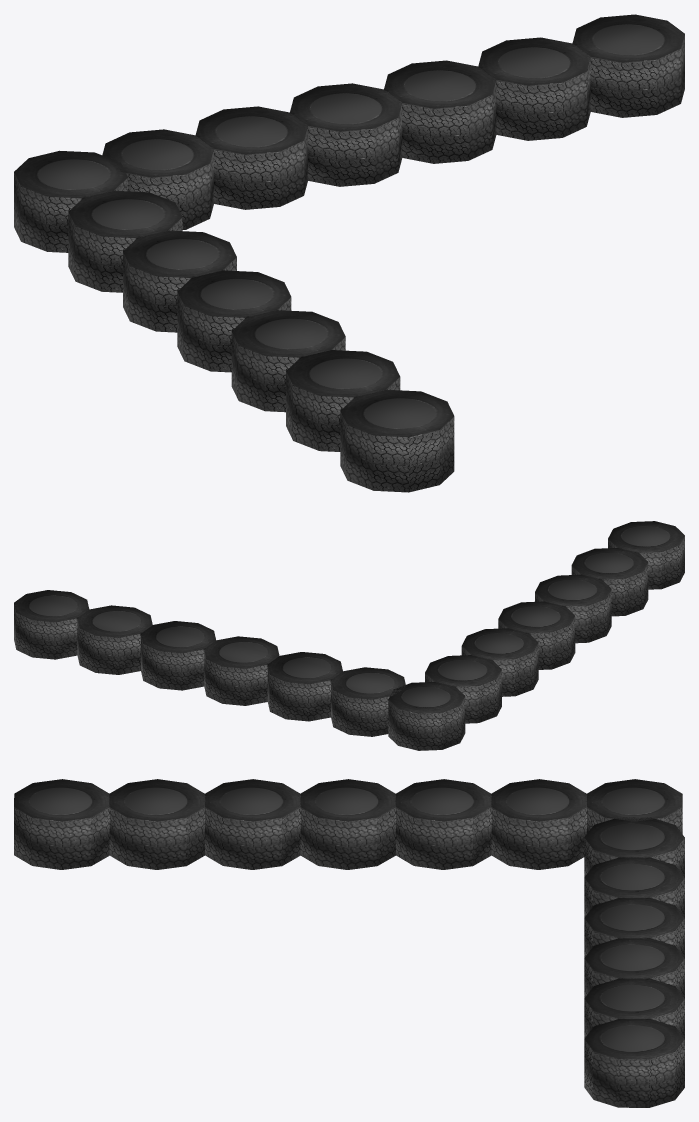
Rendered from wheels_corner_short.fbx.
The picture shows the model from 3 angles, top to bottom: view 1: azimuth 30°, elevation 25°; view 2: azimuth 150°, elevation 25°; view 3: azimuth 270°, elevation 25°; orthographic projection. The views are drawn at different scales.
Visible parts, largest first — view 1: wheels_corner_short; view 2: wheels_corner_short; view 3: wheels_corner_short.
Part boxes in pixels (bbox=[...]): wheels_corner_short: bbox=[14, 14, 684, 492]; wheels_corner_short: bbox=[14, 521, 684, 750]; wheels_corner_short: bbox=[14, 779, 684, 1107].
Bounding box in the file's own units: 200 × 16.11 × 202.
